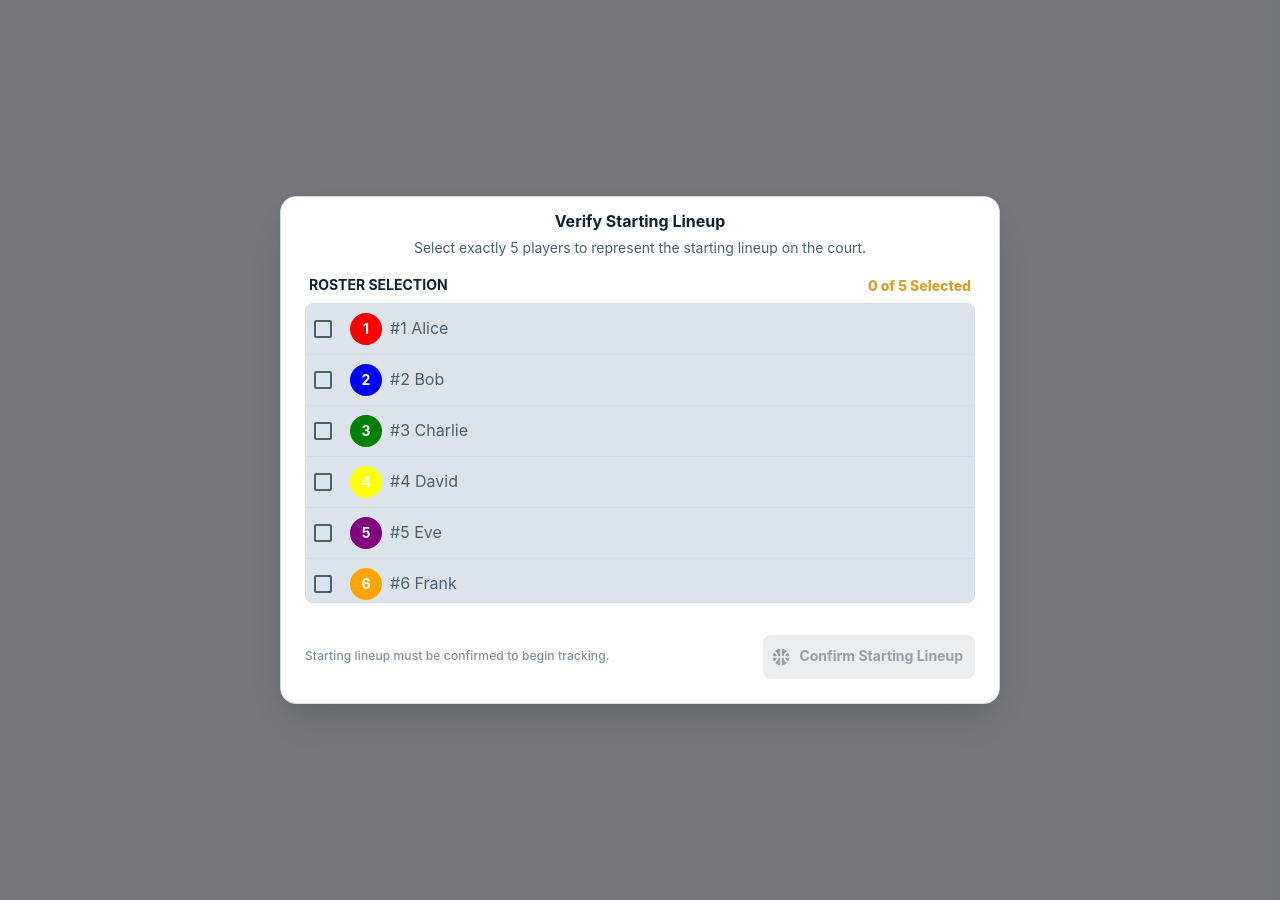
Test: StartingLineupDialog › allows selecting players up to 5
Click the text "#1 Alice" at {"x": 419, "y": 328}, box x1=390 y1=318 x2=448 y2=338
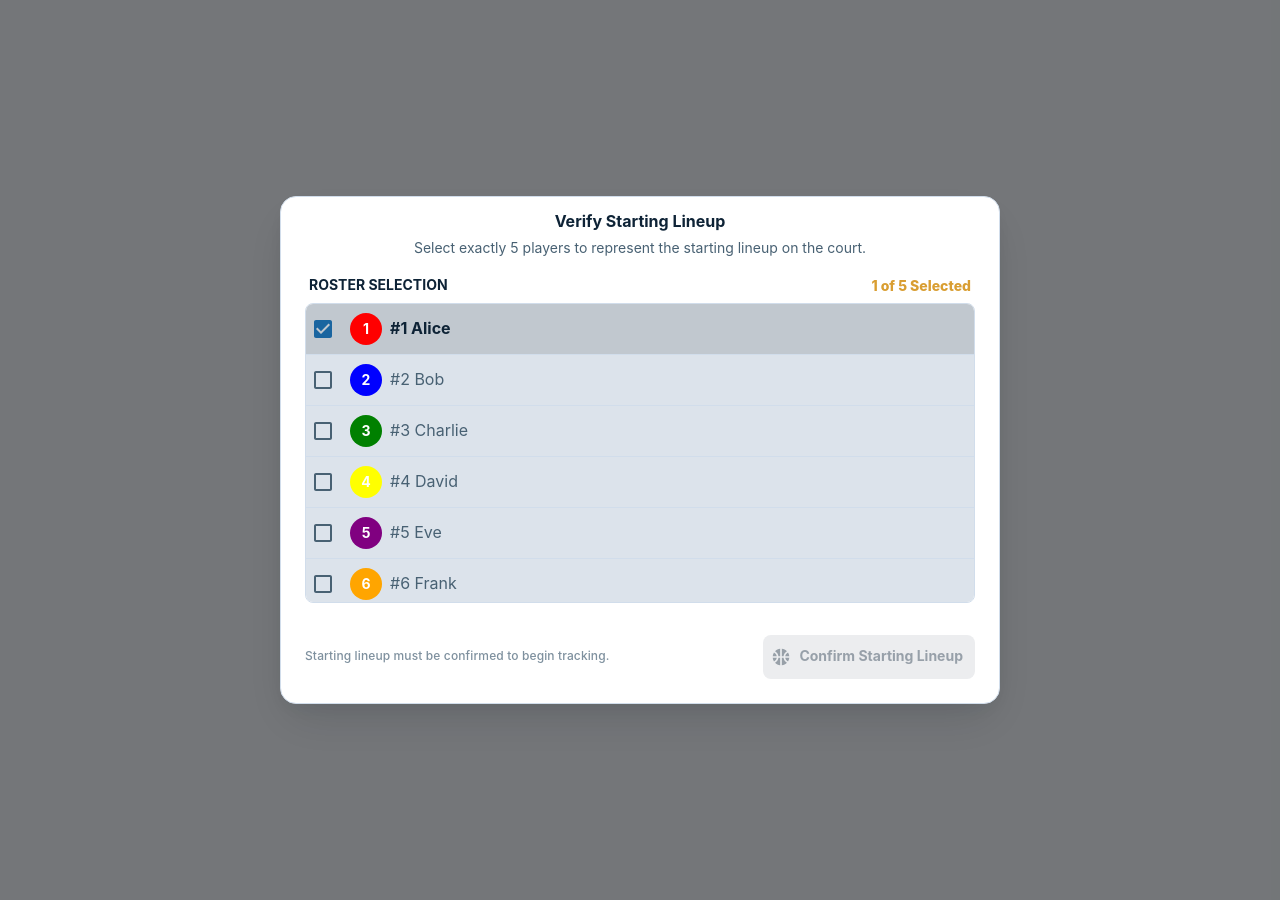
Expected: the text "1 of 5 Selected" is shown, x1=871 y1=275 x2=971 y2=296
Click the text "#2 Bob" at {"x": 417, "y": 379}, box x1=390 y1=369 x2=444 y2=389
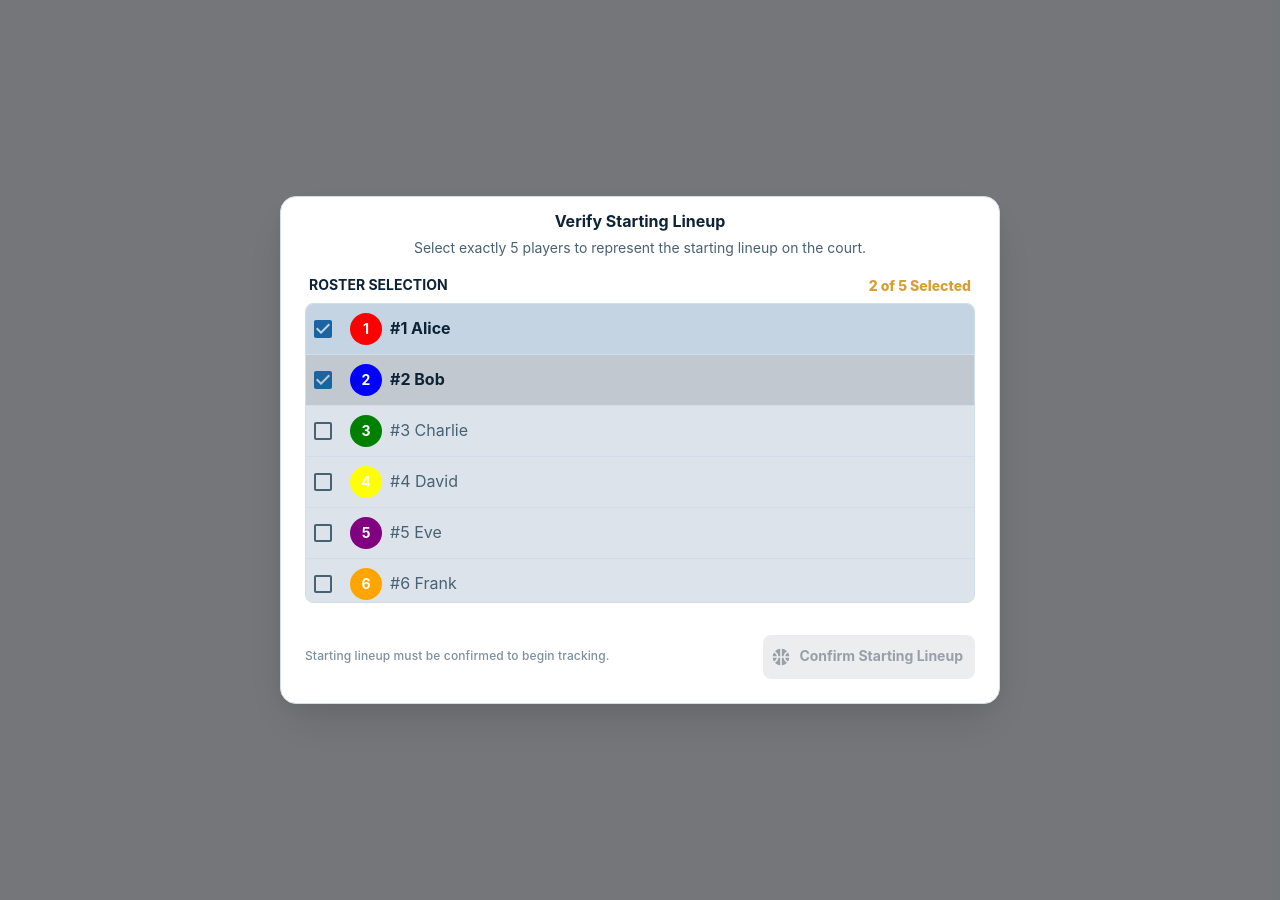
Click the text "#3 Charlie" at {"x": 429, "y": 430}, box x1=390 y1=420 x2=468 y2=440
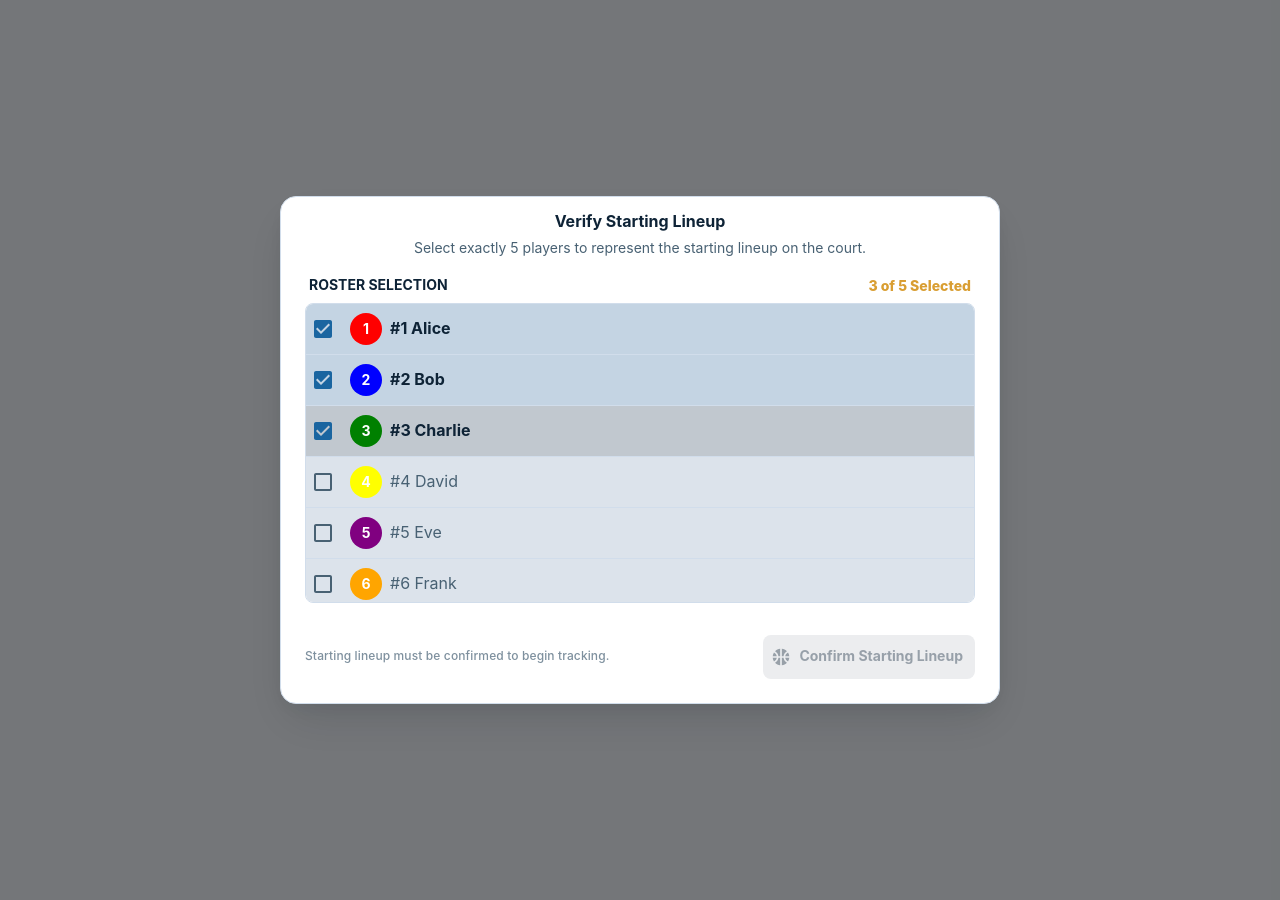
Click the text "#4 David" at {"x": 424, "y": 481}, box x1=390 y1=471 x2=458 y2=491
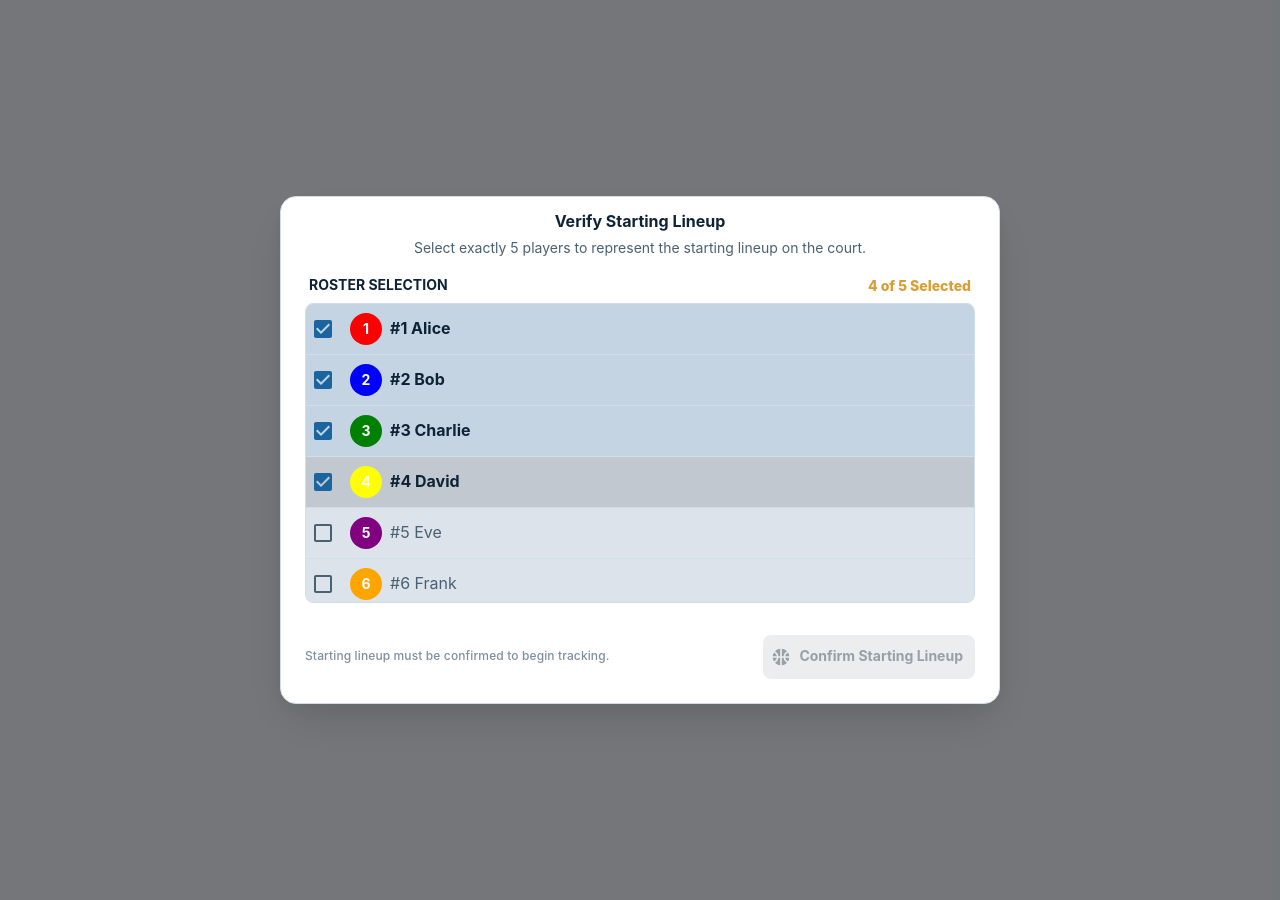
Click the text "#5 Eve" at {"x": 416, "y": 532}, box x1=390 y1=522 x2=442 y2=542
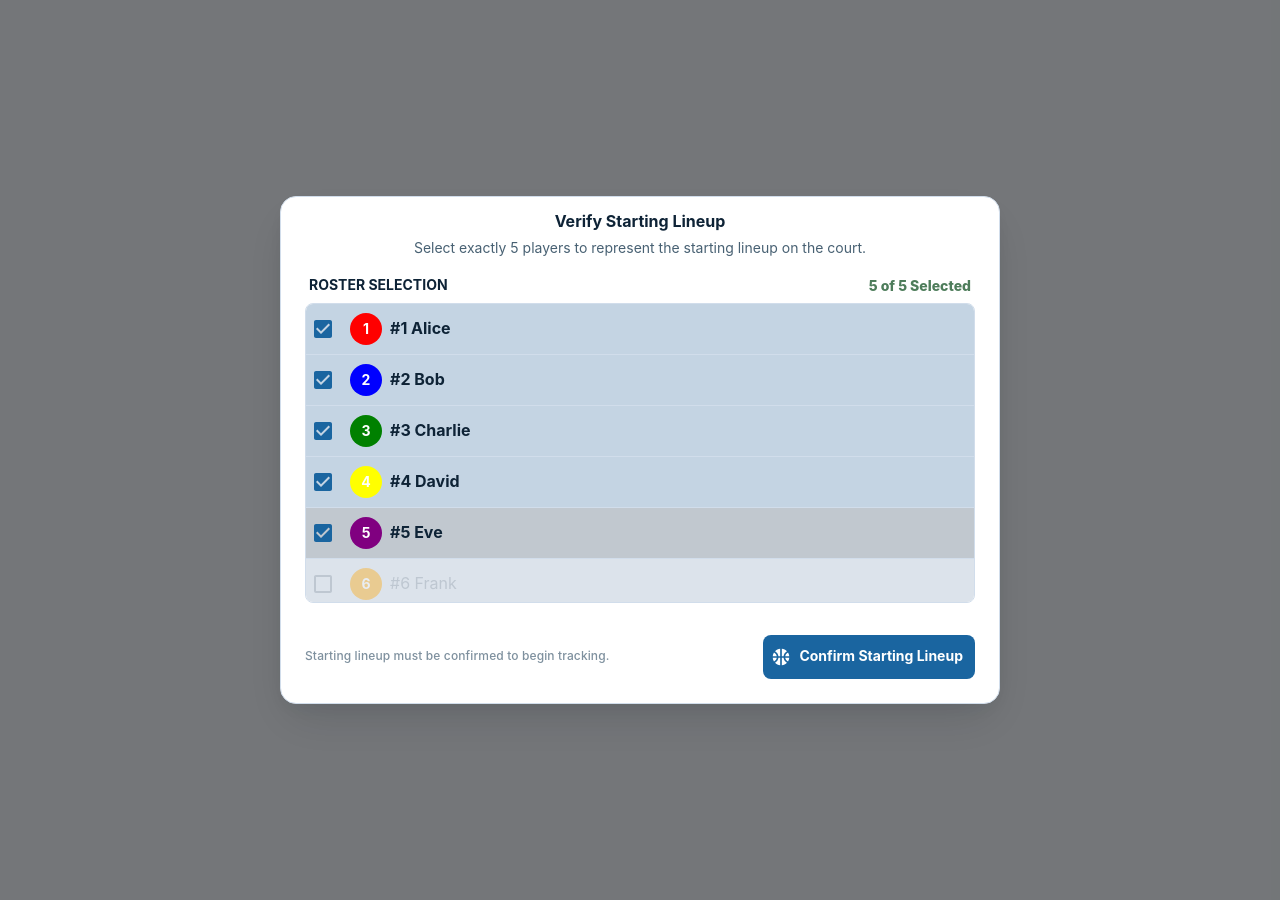
Expected: the text "5 of 5 Selected" is shown, x1=869 y1=275 x2=971 y2=296
